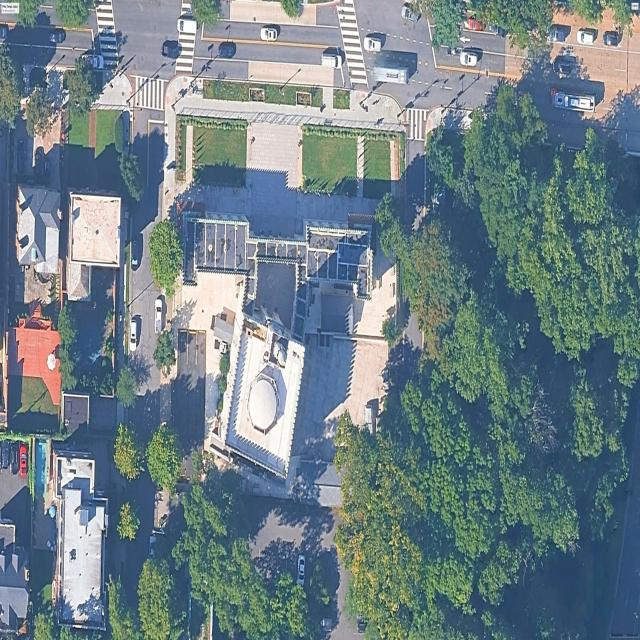Home: (8, 320, 61, 405), (16, 185, 61, 274)
mosque: (183, 217, 373, 478)
